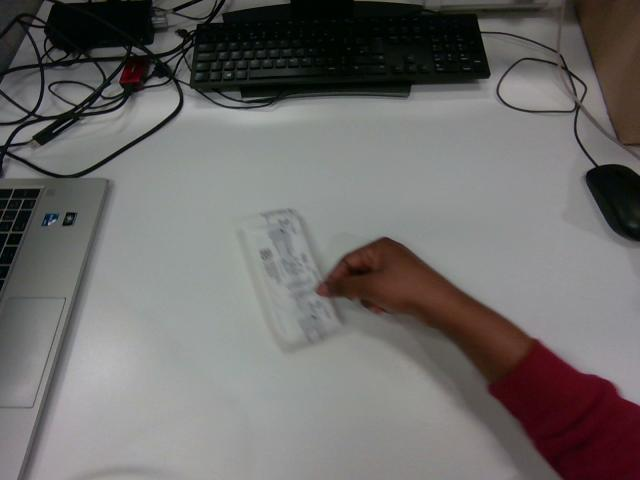syringe: (239, 209, 341, 349)
